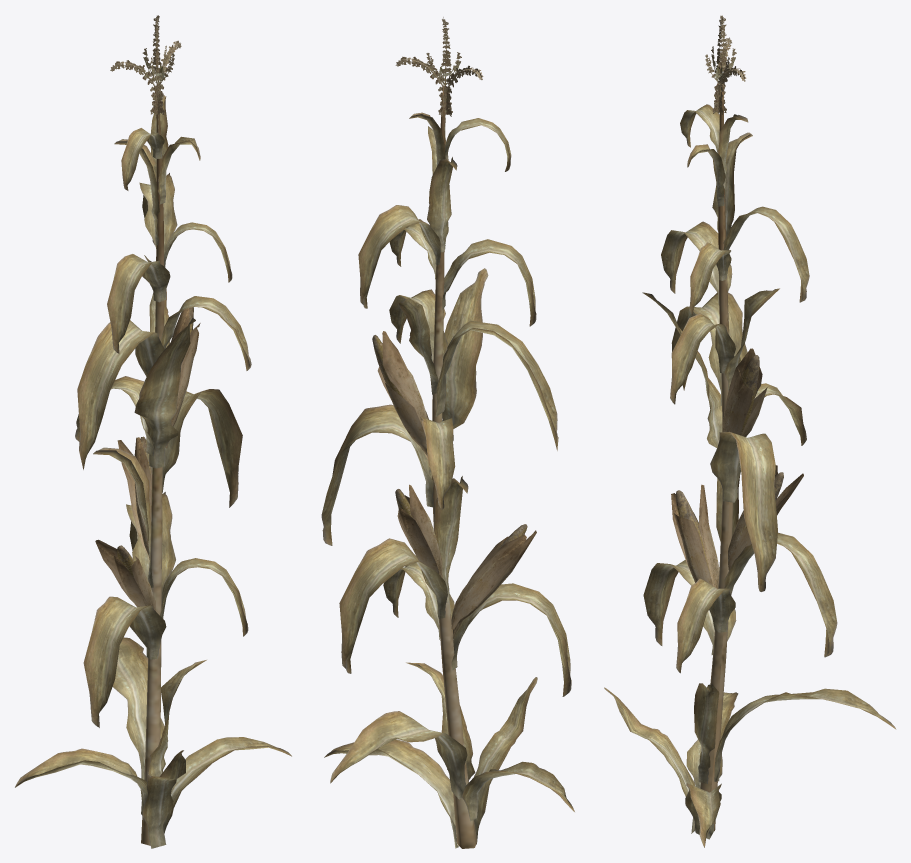
Rendered from SM_Corn01.fbx.
3 renders of one model, left to right at view 1: azimuth 30°, elevation 25°; view 2: azimuth 150°, elevation 25°; view 3: azimuth 270°, elevation 25°, orthographic.
Parts seen in each view (by area): view 1: SM_Corn01.mo; view 2: SM_Corn01.mo; view 3: SM_Corn01.mo.
Boxes of the visible parts, left/top/right/bottom form: SM_Corn01.mo: left=15, top=15, right=291, bottom=848; SM_Corn01.mo: left=321, top=17, right=574, bottom=848; SM_Corn01.mo: left=604, top=15, right=896, bottom=847.
Bounding box in the file's own units: 74.34 × 222 × 71.03.
